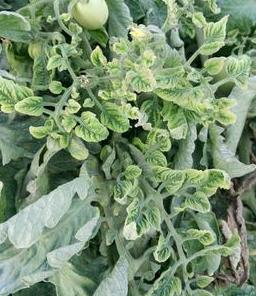Tomato leaf yellow virus: (167, 82, 225, 122), (71, 114, 118, 149), (198, 14, 234, 57), (120, 196, 148, 249), (117, 64, 162, 94), (95, 102, 132, 137), (194, 166, 235, 197), (143, 128, 175, 167), (0, 70, 25, 119), (18, 92, 50, 122), (226, 53, 251, 90), (158, 169, 187, 191)
